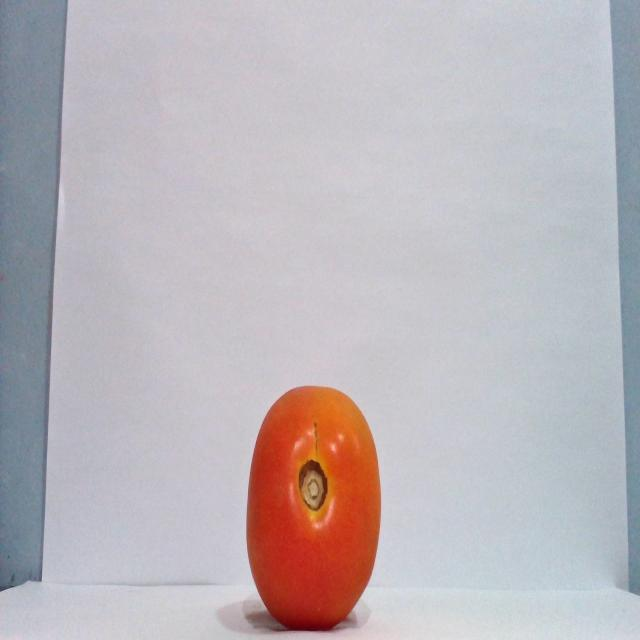Red: (244, 384, 382, 630)
